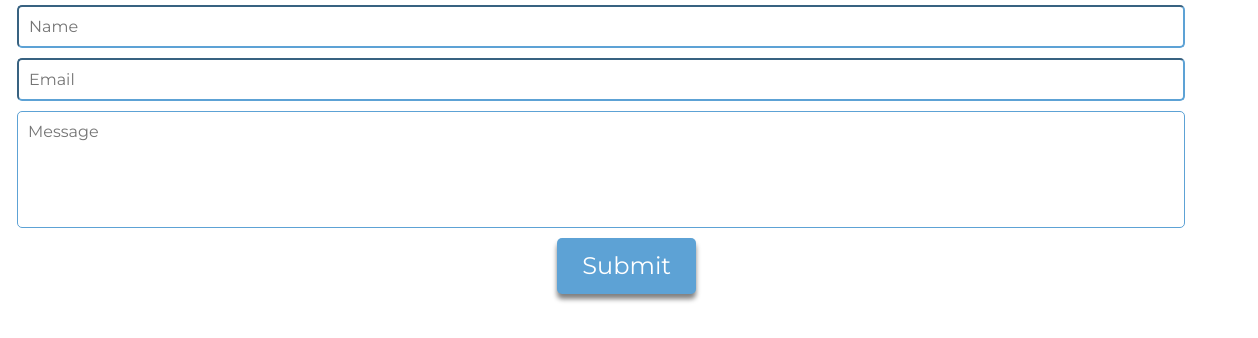
it: form submits
Type "Kelsi" into the field with test id "name-input" at (601, 26), box [17, 5, 1185, 48]
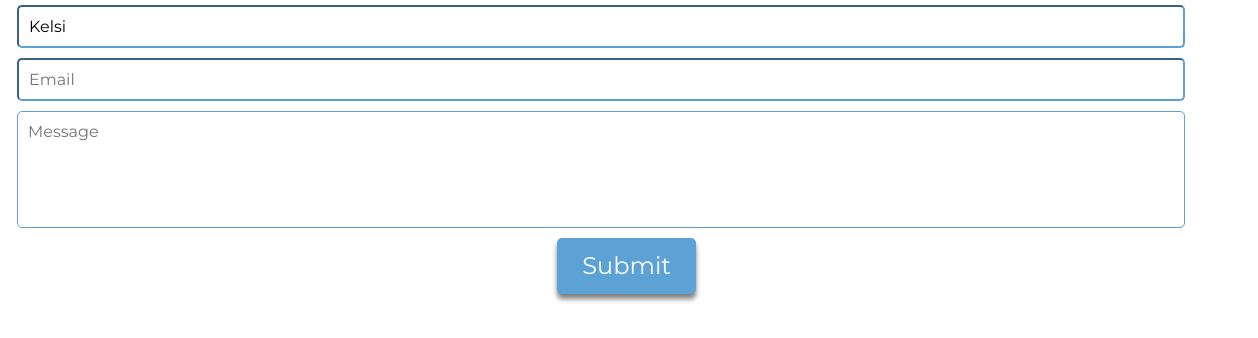
Type "kelsi@kelsihoyle.com" into the field with test id "email-input" at (601, 80), box [17, 58, 1185, 101]
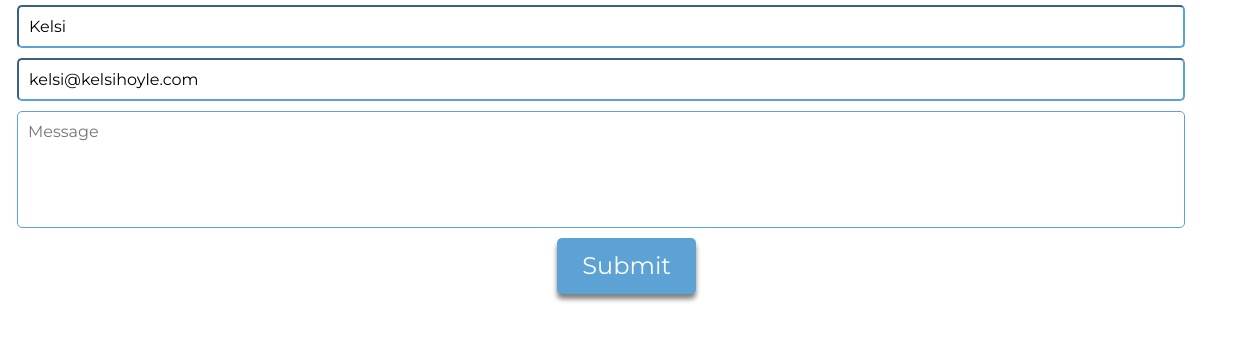
Type "Hello! This is a test." into the text box with test id "message-input" at (601, 170), box [17, 111, 1185, 228]
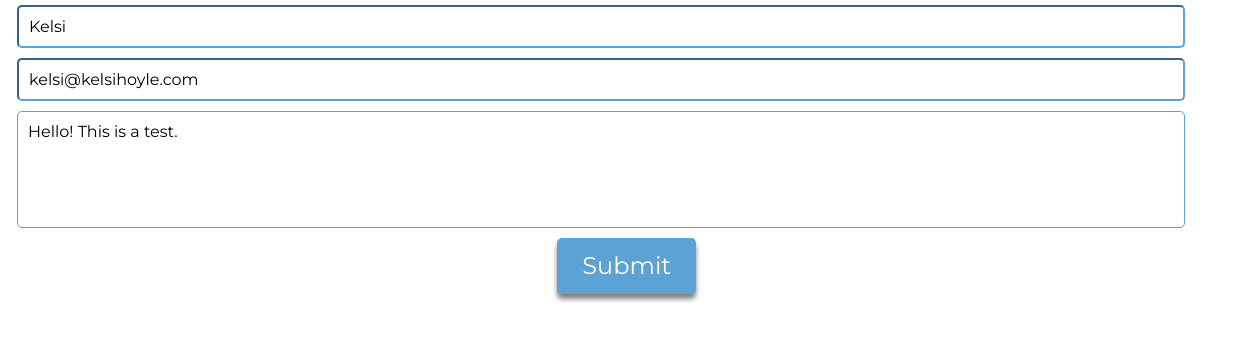
Submit the form with test id "form"
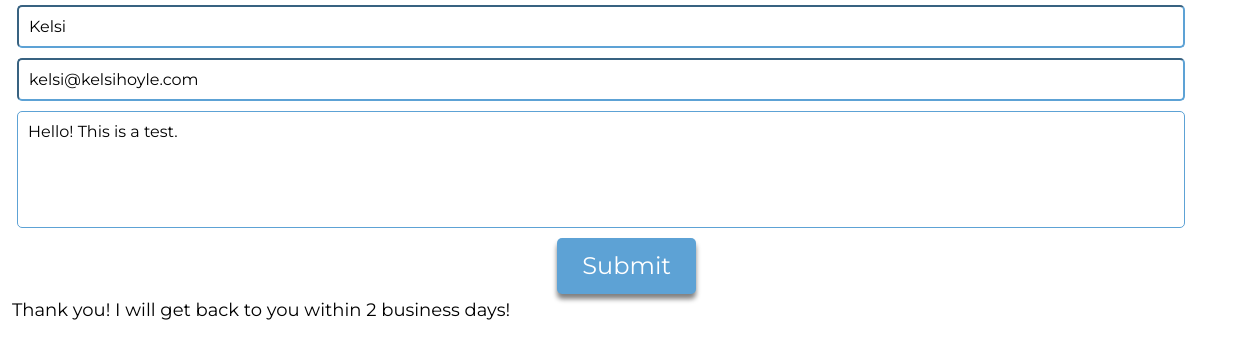
Now the text "Thank you! I will get back to you within 2 business days!" is shown, box [12, 299, 510, 321]
